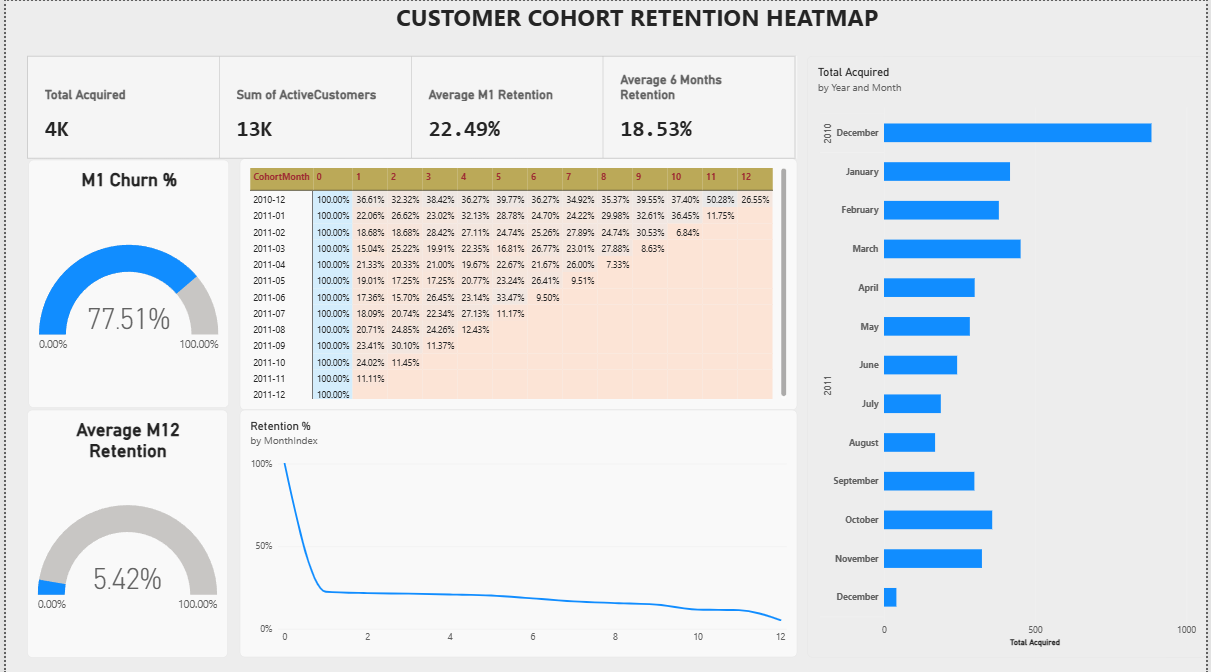

The page's visual inventory and layout, read from the dashboard file:
{"tool":"powerbi","page":{"name":"Page 1","canvas":[1920,1080],"ordinal":0},"visuals":[{"type":"pivotTable","fields":{"Columns":["cohort_matrix.MonthIndex"],"Rows":["cohort_matrix.CohortMonth"],"Values":["cohort_matrix.Retention %"]},"box":[374,252,892,402],"z":0},{"type":"textbox","box":[608,0,804,72],"z":1000},{"type":"cardVisual","fields":{"Data":["cohort_matrix.Total Acquired","Sum(cohort_matrix.ActiveCustomers)","cohort_matrix.Average M1 Retention","cohort_matrix.Average 6 Months Retention"]},"box":[34,88,1232,164],"z":2000},{"type":"clusteredBarChart","fields":{"Category":["cohort_matrix.CohortMonth.Variation.Date Hierarchy.Year","cohort_matrix.CohortMonth.Variation.Date Hierarchy.Month"],"Y":["cohort_matrix.Total Acquired"]},"box":[1281.2,87.5,639.6,962.5],"z":3000},{"type":"lineChart","fields":{"Category":["cohort_matrix.MonthIndex"],"Y":["cohort_matrix.Retention %"]},"box":[374,654,892,396],"z":4000},{"type":"gauge","fields":{"Y":["cohort_matrix.M1 Churn %"]},"box":[35.4,254.2,321,397],"z":5000},{"type":"gauge","fields":{"Y":["cohort_matrix.Average M12 Retention"]},"box":[35,654.5,321,397],"z":5001}]}

Visuals, with their boxes in screenshot pixels (x1, y1, x2, y2), scaled from the page's 1920x1080 canvas onto the 1211x672 screenshot:
pivotTable - cohort_matrix.MonthIndex x cohort_matrix.CohortMonth: detection(236, 157, 799, 407)
textbox: detection(383, 0, 891, 45)
cardVisual - cohort_matrix.Total Acquired x Sum(cohort_matrix.ActiveCustomers): detection(21, 55, 799, 157)
clusteredBarChart - cohort_matrix.CohortMonth.Variation.Date Hierarchy.Year x cohort_matrix.CohortMonth.Variation.Date Hierarchy.Month: detection(808, 54, 1210, 653)
lineChart - cohort_matrix.MonthIndex x cohort_matrix.Retention %: detection(236, 407, 799, 653)
gauge - cohort_matrix.M1 Churn %: detection(22, 158, 225, 405)
gauge - cohort_matrix.Average M12 Retention: detection(22, 407, 225, 654)
